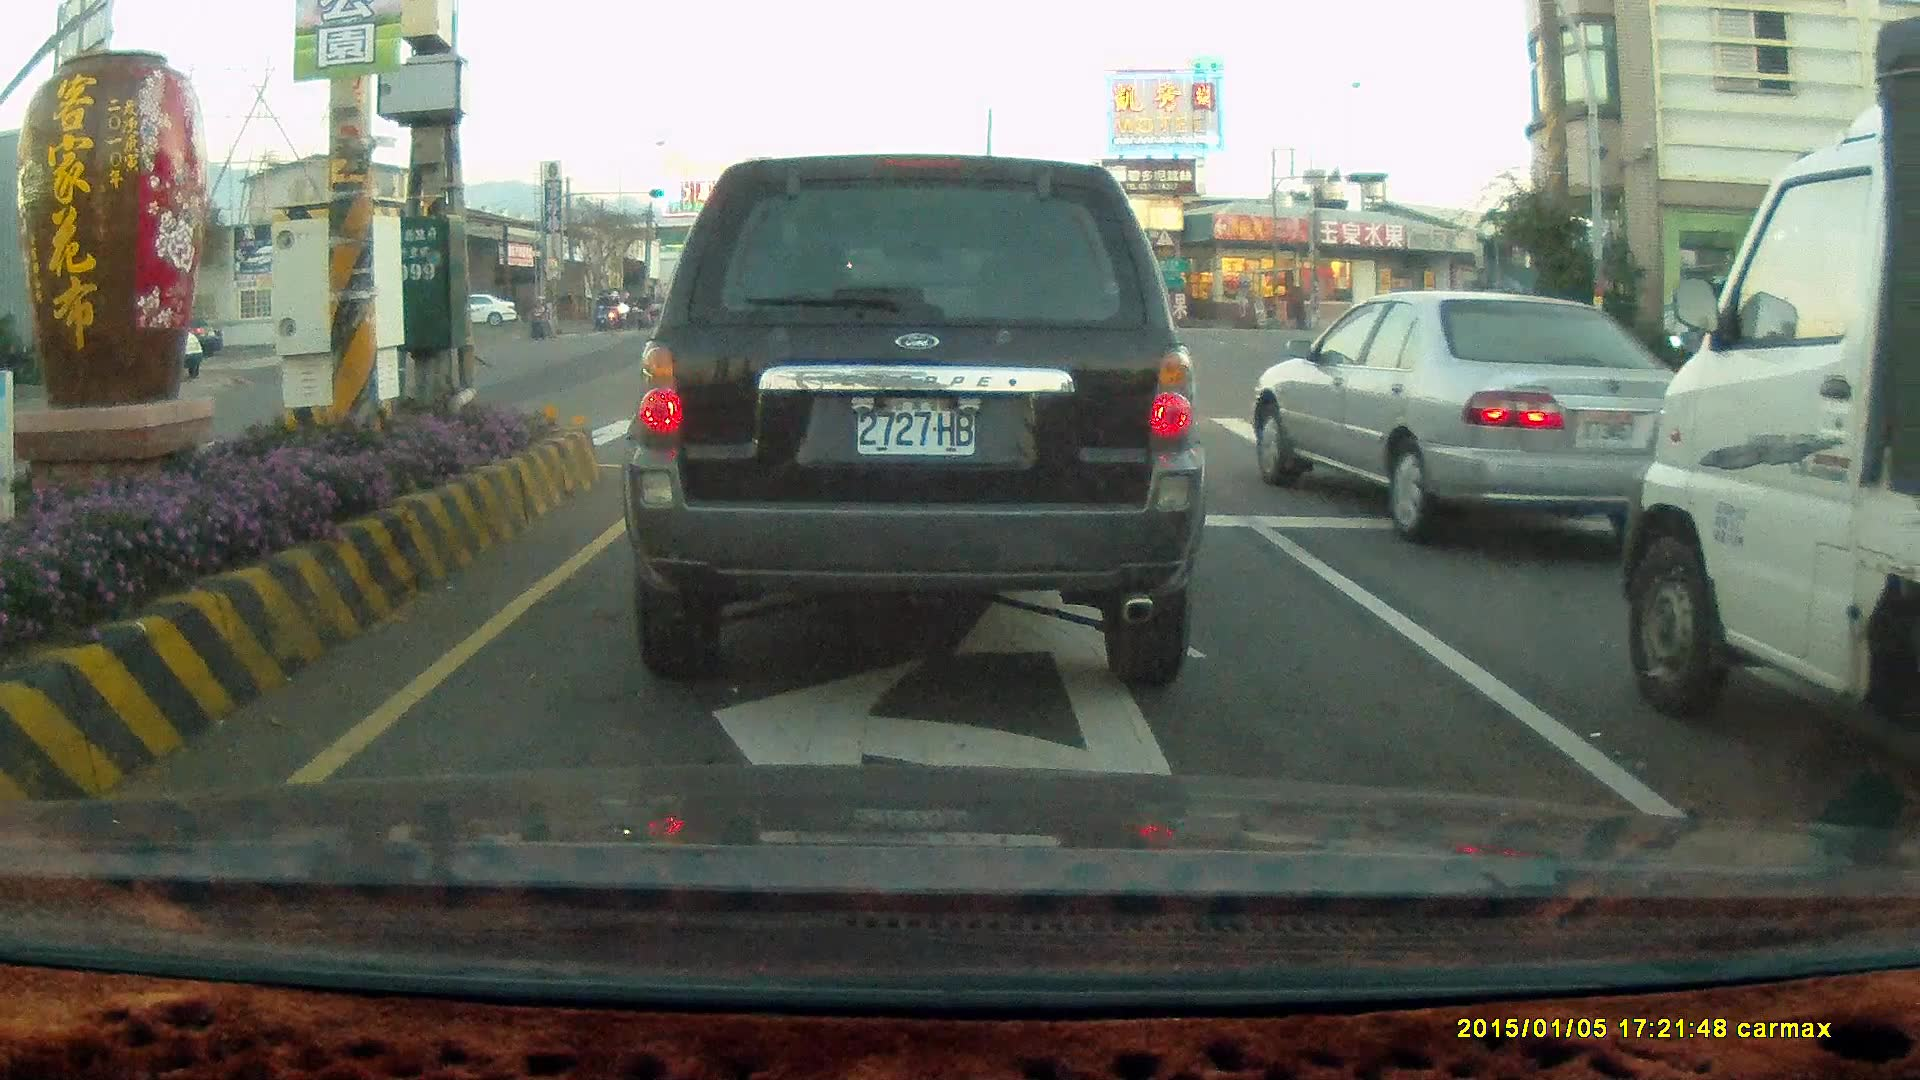rider: (525, 288, 555, 340), (591, 289, 612, 330), (631, 289, 653, 329), (595, 293, 616, 330)
vehicle: (618, 150, 1208, 693), (1615, 14, 1920, 786), (1247, 289, 1711, 547), (1257, 288, 1693, 545), (1669, 278, 1825, 372), (448, 295, 519, 328)
